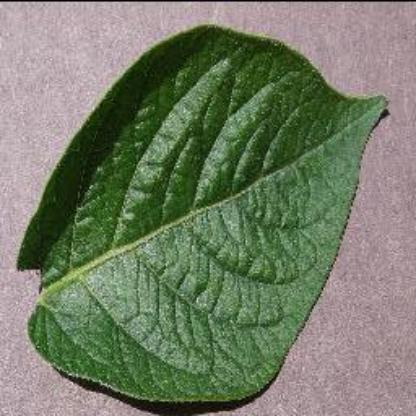Healthy-plant: (21, 23, 384, 403)
